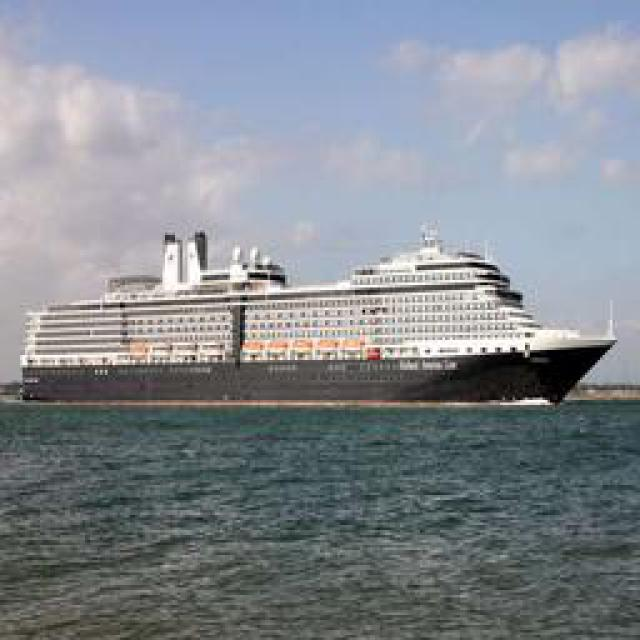Ship: (22, 219, 620, 412)
